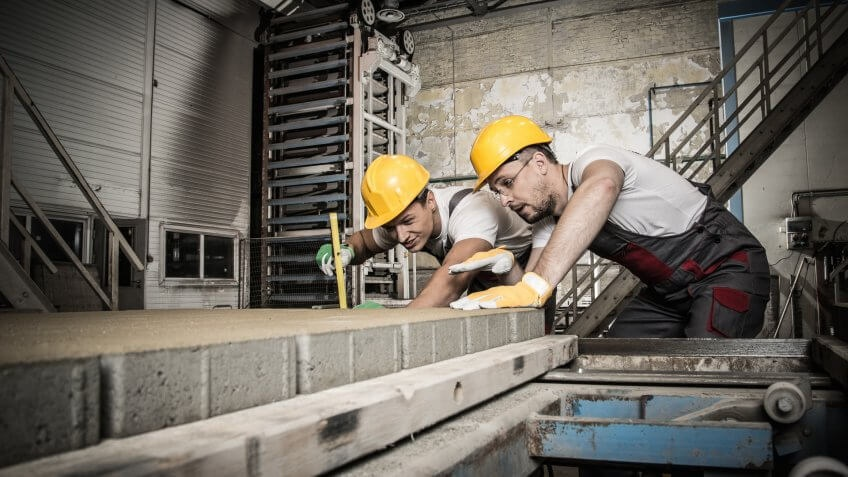yellow: (466, 110, 559, 220), (357, 151, 438, 250)
